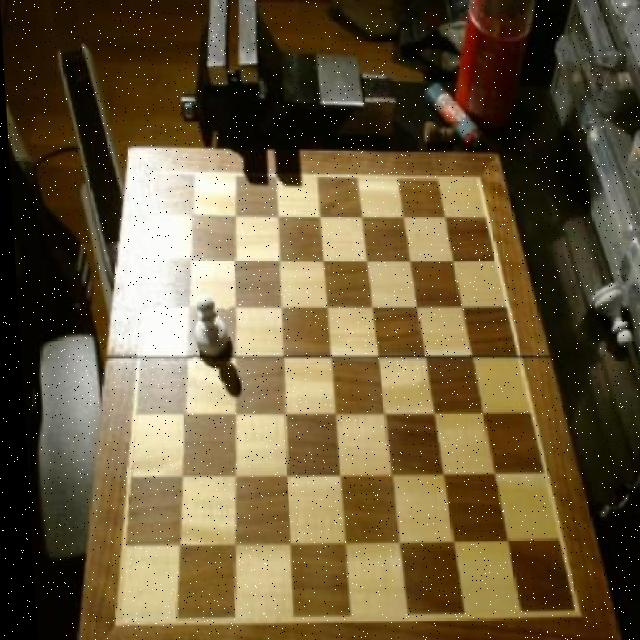white-knight: (186, 286, 228, 369)
